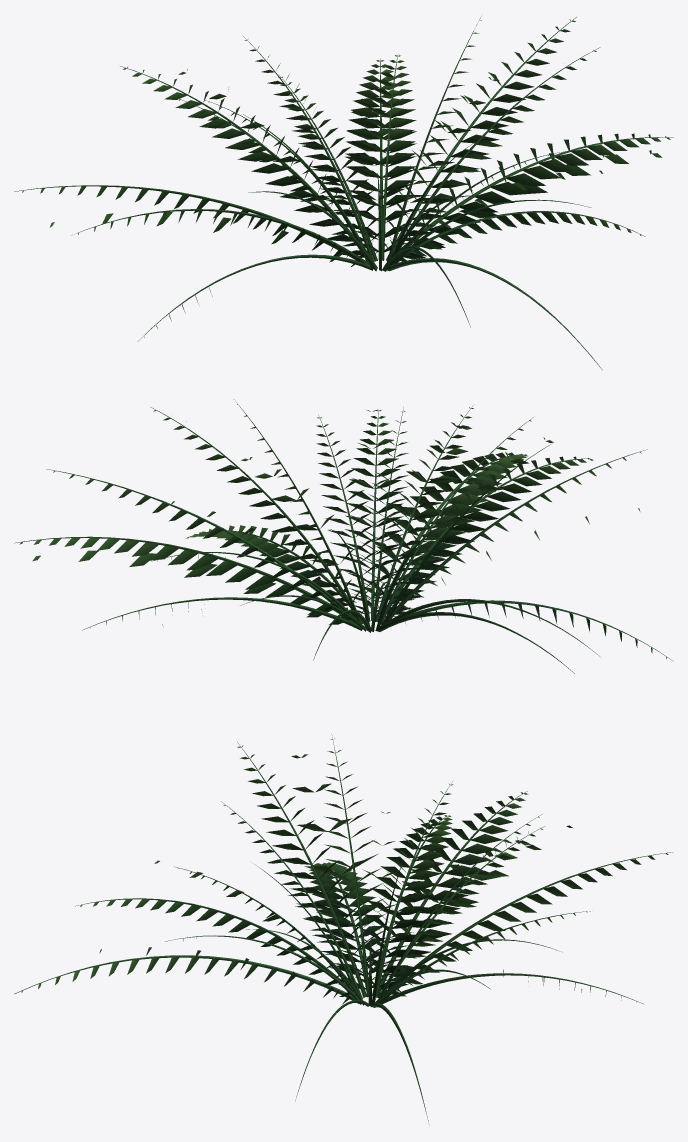
The model's file is sword-fern.glb.
3 renders of one model, top to bottom at view 1: azimuth 30°, elevation 25°; view 2: azimuth 150°, elevation 25°; view 3: azimuth 270°, elevation 25°, orthographic. The views are drawn at different scales.
Visible parts, largest first — view 1: sword-fern, sword-fern-lo; view 2: sword-fern, sword-fern-lo; view 3: sword-fern, sword-fern-lo.
Part boxes in pixels (x1,y1,x2,y2): sword-fern: [14, 16, 673, 370]; sword-fern-lo: [50, 69, 662, 262]; sword-fern: [14, 399, 673, 673]; sword-fern-lo: [32, 409, 640, 626]; sword-fern: [14, 734, 672, 1124]; sword-fern-lo: [99, 754, 582, 998].
Size of the model in its own units: 2.14 by 0.7088 by 2.11.
